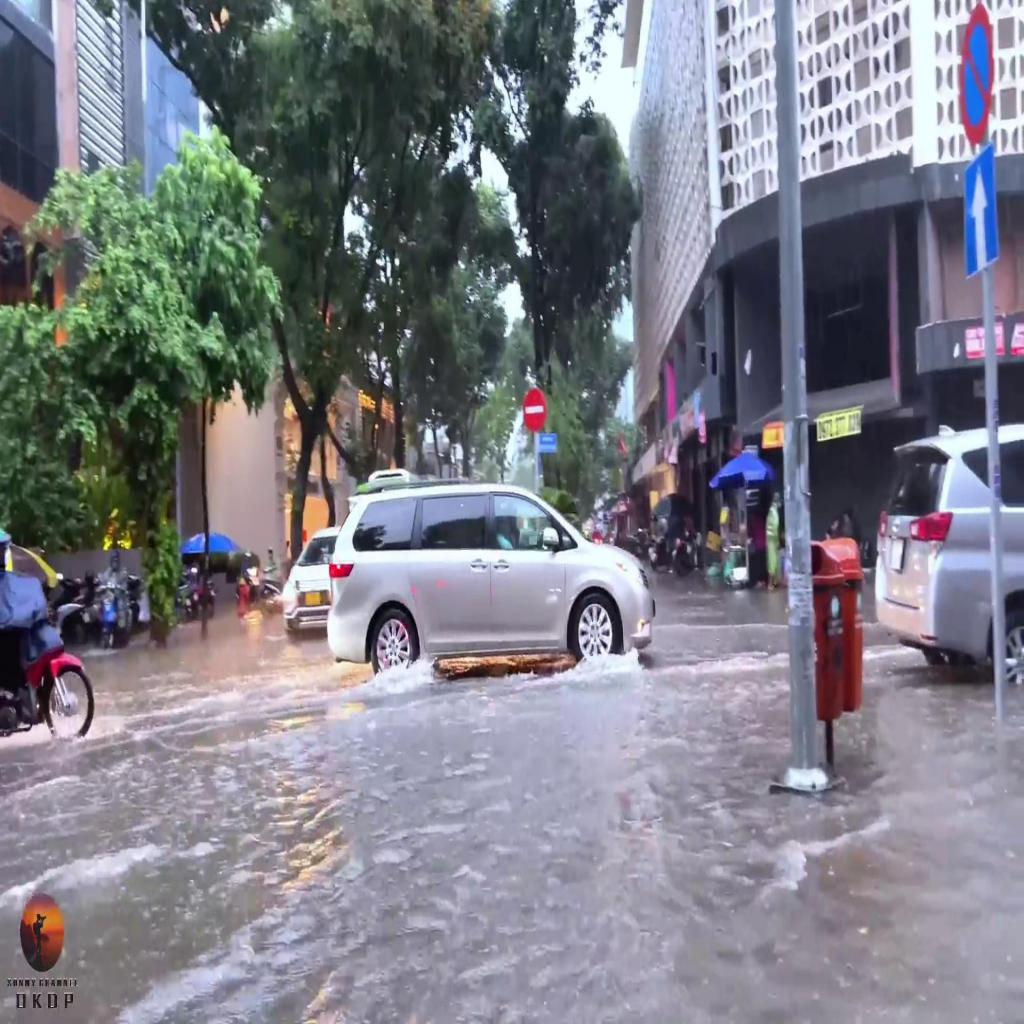cam_do_xe: (956, 1, 994, 148)
cam_xe_di_nguoc_chieu: (522, 384, 548, 434)
duong_mot_chieu: (962, 144, 998, 279)
